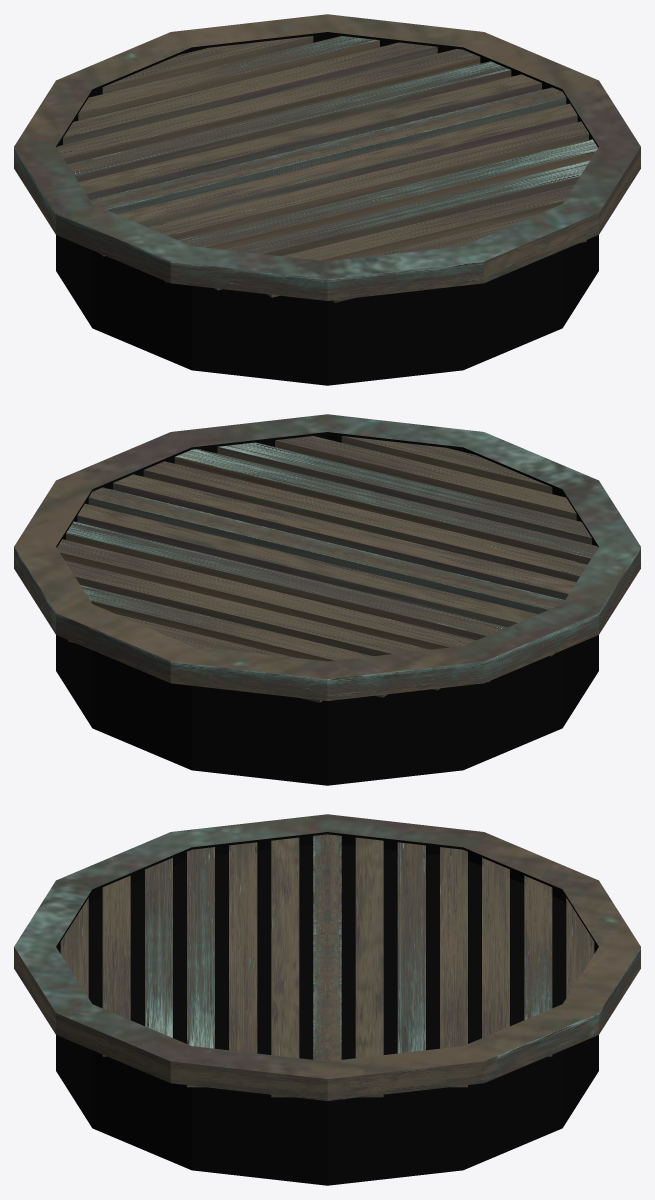
File: AirHole.glb
3 renders of one model, top to bottom at view 1: azimuth 30°, elevation 25°; view 2: azimuth 150°, elevation 25°; view 3: azimuth 270°, elevation 25°, orthographic.
Parts seen in each view (by area): view 1: Torus; view 2: Torus; view 3: Torus.
Boxes of the visible parts, left/top/right/bottom form: Torus: left=14, top=14, right=640, bottom=385; Torus: left=14, top=414, right=640, bottom=785; Torus: left=14, top=814, right=640, bottom=1185.
Size of the model in its own units: 2.25 by 0.4921 by 2.25.
Materials: 1 (1 with a texture image).
